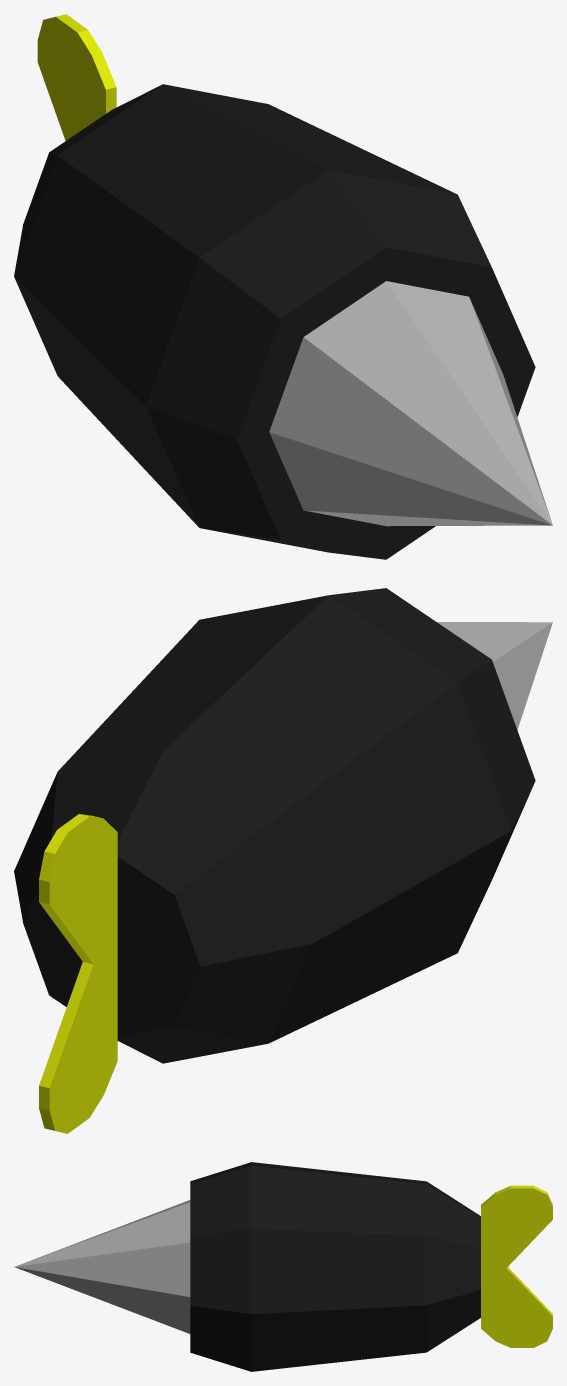
File: dart.glb
3 renders of one model, top to bottom at view 1: azimuth 30°, elevation 25°; view 2: azimuth 150°, elevation 25°; view 3: azimuth 270°, elevation 25°, orthographic. The views are drawn at different scales.
Parts seen in each view (by area): view 1: Middle, Front, Back; view 2: Middle, Back, Front; view 3: Middle, Front, Back.
Part boxes in pixels (<box>): Middle: <box>14,84,535,559</box>; Front: <box>269,281,552,526</box>; Back: <box>37,14,116,140</box>; Middle: <box>14,588,535,1063</box>; Back: <box>39,814,117,1133</box>; Front: <box>437,622,552,729</box>; Middle: <box>190,1162,480,1371</box>; Front: <box>14,1200,190,1333</box>; Back: <box>481,1185,552,1347</box>.
Bounding box in the file's own units: 0.1835 × 0.1835 × 0.443.
